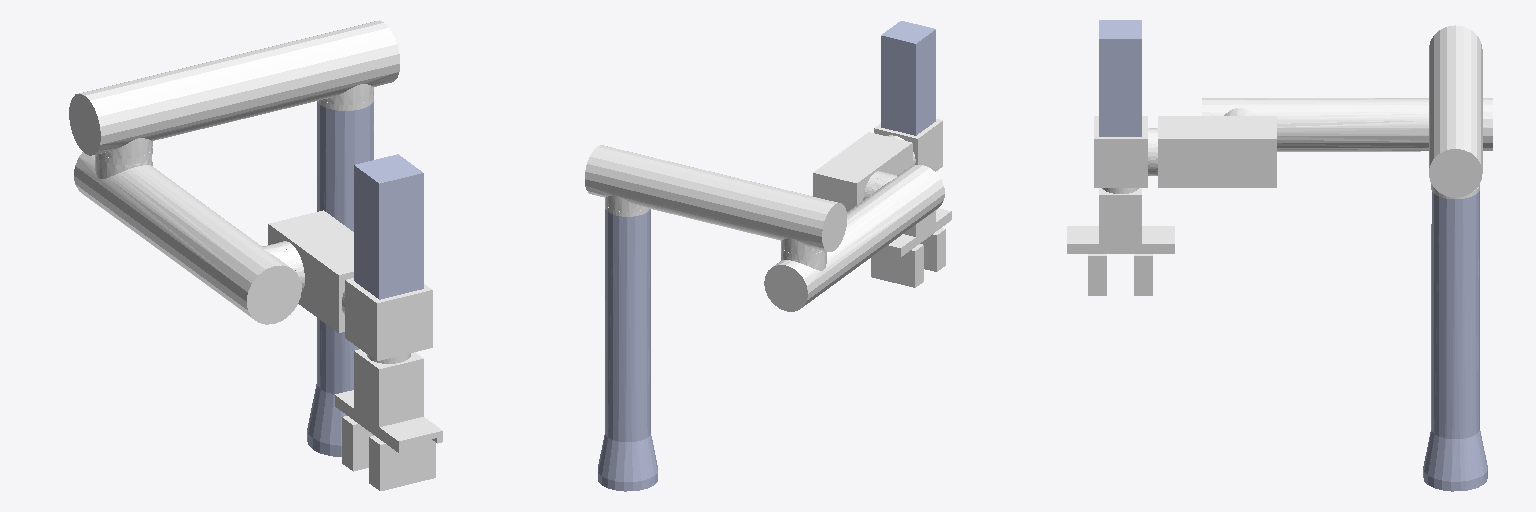
URDF robot description (robotic_arm_v7):
<?xml version='1.0' encoding='utf-8'?>
<robot name="robotic_arm_v7">
  <link name="base_link">
    <inertial>
      <origin xyz="-4.48530101948563E-14 3.06100197116207E-13 0.27640524781893" rpy="0 0 0" />
      <mass value="4.04087355067987" />
      <inertia ixx="0.129555582836237" ixy="4.88042983738183E-19" ixz="4.26073852666764E-17" iyy="0.129555582836237" iyz="3.97967754737461E-19" izz="0.00455706274910499" />
    </inertial>
    <visual>
      <origin xyz="0 0 0" rpy="0 0 0" />
      <geometry>
        <mesh filename="../meshes/base_link.STL" />
      </geometry>
      <material name="">
        <color rgba="0.792156862745098 0.819607843137255 0.933333333333333 1" />
      </material>
    </visual>
    <collision>
      <origin xyz="0 0 0" rpy="0 0 0" />
      <geometry>
        <mesh filename="../meshes/base_link.STL" />
      </geometry>
    </collision>
  </link>
  <link name="link1">
    <inertial>
      <origin xyz="0.197135744028777 -1.59976352138869E-07 0.0526642978178779" rpy="0 0 0" />
      <mass value="4.44204931472102" />
      <inertia ixx="0.00575245836192667" ixy="-3.47944138045796E-08" ixz="4.17589026739779E-08" iyy="0.111599507271791" iyz="-3.98795123152756E-08" izz="0.111432657655181" />
    </inertial>
    <visual>
      <origin xyz="0 0 0" rpy="0 0 0" />
      <geometry>
        <mesh filename="../meshes/link1.STL" />
      </geometry>
      <material name="">
        <color rgba="1 1 1 1" />
      </material>
    </visual>
    <collision>
      <origin xyz="0 0 0" rpy="0 0 0" />
      <geometry>
        <mesh filename="../meshes/link1.STL" />
      </geometry>
    </collision>
  </link>
  <joint name="joint1" type="revolute">
    <origin xyz="0 0 0.6" rpy="0 0 3.1416" />
    <parent link="base_link" />
    <child link="link1" />
    <axis xyz="0 0 -1" />
    <limit lower="-3.14" upper="3.14" effort="100" velocity="1" />
  </joint>
  <link name="link2">
    <inertial>
      <origin xyz="-0.000738403226501205 0.197135608816572 -0.0634025943131798" rpy="0 0 0" />
      <mass value="4.44204829421817" />
      <inertia ixx="0.11150262053642" ixy="0.000655954951601333" ixz="-2.42341507679182E-06" iyy="0.00575736828945308" iyz="0.000655967250818409" izz="0.11153441802896" />
    </inertial>
    <visual>
      <origin xyz="0 0 0" rpy="0 0 0" />
      <geometry>
        <mesh filename="../meshes/link2.STL" />
      </geometry>
      <material name="">
        <color rgba="1 1 1 1" />
      </material>
    </visual>
    <collision>
      <origin xyz="0 0 0" rpy="0 0 0" />
      <geometry>
        <mesh filename="../meshes/link2.STL" />
      </geometry>
    </collision>
  </link>
  <joint name="joint2" type="revolute">
    <origin xyz="0.4 0 0" rpy="0 0 0" />
    <parent link="link1" />
    <child link="link2" />
    <axis xyz="0 0 -1" />
    <limit lower="-3.14" upper="3.14" effort="100" velocity="1" />
  </joint>
  <link name="link3">
    <inertial>
      <origin xyz="0.0398974900501523 1.11022302462516E-16 -0.0626422711552406" rpy="0 0 0" />
      <mass value="2.32723450247039" />
      <inertia ixx="0.00383421920134784" ixy="-4.34466532626891E-18" ixz="6.84994264190495E-05" iyy="0.0113093046398436" iyz="-8.26342519335006E-20" izz="0.0112705770389137" />
    </inertial>
    <visual>
      <origin xyz="0 0 0" rpy="0 0 0" />
      <geometry>
        <mesh filename="../meshes/link3.STL" />
      </geometry>
      <material name="">
        <color rgba="1 1 1 1" />
      </material>
    </visual>
    <collision>
      <origin xyz="0 0 0" rpy="0 0 0" />
      <geometry>
        <mesh filename="../meshes/link3.STL" />
      </geometry>
    </collision>
  </link>
  <joint name="joint3" type="revolute">
    <origin xyz="-0.055 0.4 -0.065" rpy="1.5708 0 1.5708" />
    <parent link="link2" />
    <child link="link3" />
    <axis xyz="0 0 -1" />
    <limit lower="-3.14" upper="3.14" effort="100" velocity="1" />
  </joint>
  <link name="link4">
    <inertial>
      <origin xyz="-3.44169137633799E-15 -1.73683289972359E-12 0.0479519627717391" rpy="0 0 0" />
      <mass value="0.455425876852791" />
      <inertia ixx="0.00111346067238529" ixy="-9.66310568245252E-20" ixz="1.29671787928896E-19" iyy="0.000921460672385288" iyz="6.17813916663565E-20" izz="0.000888618700313452" />
    </inertial>
    <visual>
      <origin xyz="0 0 0" rpy="0 0 0" />
      <geometry>
        <mesh filename="../meshes/link4.STL" />
      </geometry>
      <material name="">
        <color rgba="1 1 1 1" />
      </material>
    </visual>
    <collision>
      <origin xyz="0 0 0" rpy="0 0 0" />
      <geometry>
        <mesh filename="../meshes/link4.STL" />
      </geometry>
    </collision>
  </link>
  <joint name="joint4" type="revolute">
    <origin xyz="0.16 0 -0.065" rpy="1.5708 0 1.5708" />
    <parent link="link3" />
    <child link="link4" />
    <axis xyz="0 0 1" />
    <limit lower="-3.14" upper="3.14" effort="100" velocity="1" />
  </joint>
  <link name="link5">
    <inertial>
      <origin xyz="0.049999999998263 -0.0399999999999991 0.0484868090201611" rpy="0 0 0" />
      <mass value="1.93924225500324" />
      <inertia ixx="0.0158729953475229" ixy="4.17898904342058E-19" ixz="5.782022544525E-18" iyy="0.0158729953475229" iyz="8.93482452136473E-18" izz="0.00205978588118948" />
    </inertial>
    <visual>
      <origin xyz="0 0 0" rpy="0 0 0" />
      <geometry>
        <mesh filename="../meshes/link5.STL" />
      </geometry>
      <material name="">
        <color rgba="0.796078431372549 0.823529411764706 0.937254901960784 1" />
      </material>
    </visual>
    <collision>
      <origin xyz="0 0 0" rpy="0 0 0" />
      <geometry>
        <mesh filename="../meshes/link5.STL" />
      </geometry>
    </collision>
  </link>
  <joint name="joint5" type="prismatic">
    <origin xyz="0.05 -0.05 0.1" rpy="1.5708 0 1.5708" />
    <parent link="link4" />
    <child link="link5" />
    <axis xyz="0 0 -1" />
    <limit lower="0" upper="0.2" effort="100" velocity="1" />
  </joint>
  <link name="link6">
    <inertial>
      <origin xyz="1.11022302462516E-16 1.73705494432852E-12 0.0690013034331856" rpy="0 0 0" />
      <mass value="0.897726765009713" />
      <inertia ixx="0.00160944496511564" ixy="1.10650989936171E-19" ixz="1.36545855683083E-18" iyy="0.00214144496511564" iyz="-2.12380256081643E-19" izz="0.00151935764356845" />
    </inertial>
    <visual>
      <origin xyz="0 0 0" rpy="0 0 0" />
      <geometry>
        <mesh filename="../meshes/link6.STL" />
      </geometry>
      <material name="">
        <color rgba="1 1 1 1" />
      </material>
    </visual>
    <collision>
      <origin xyz="0 0 0" rpy="0 0 0" />
      <geometry>
        <mesh filename="../meshes/link6.STL" />
      </geometry>
    </collision>
  </link>
  <joint name="joint6" type="revolute">
    <origin xyz="0.05 -0.04 -0.11" rpy="-3.1416 0 -1.5708" />
    <parent link="link5" />
    <child link="link6" />
    <axis xyz="0 0 1" />
    <limit lower="-3.14" upper="3.14" effort="100" velocity="1" />
  </joint>
  <link name="fin1">
    <inertial>
      <origin xyz="0.0399999999982632 -0.0468604651162824 0.0575000000000413" rpy="0 0 0" />
      <mass value="0.301000000000001" />
      <inertia ixx="0.000219793556201551" ixy="2.35600275213533E-20" ixz="-1.17445112398732E-19" iyy="0.000270360416666668" iyz="2.69963711322208E-20" izz="0.000428699806201552" />
    </inertial>
    <visual>
      <origin xyz="0 0 0" rpy="0 0 0" />
      <geometry>
        <mesh filename="../meshes/fin1.STL" />
      </geometry>
      <material name="">
        <color rgba="1 1 1 1" />
      </material>
    </visual>
    <collision>
      <origin xyz="0 0 0" rpy="0 0 0" />
      <geometry>
        <mesh filename="../meshes/fin1.STL" />
      </geometry>
    </collision>
  </link>
  <joint name="joint71" type="prismatic">
    <origin xyz="-0.1 0.04 0.12" rpy="-1.5708 0 -1.5708" />
    <parent link="link6" />
    <child link="fin1" />
    <axis xyz="0 0 1" />
    <limit lower="-0.05" upper="0.015" effort="100" velocity="1" />
  </joint>
  <link name="fin2">
    <inertial>
      <origin xyz="0.039999999998263 -0.0468604651162824 0.142499999999997" rpy="0 0 0" />
      <mass value="0.301" />
      <inertia ixx="0.000219793556201551" ixy="-1.31819117681282E-19" ixz="-1.84207874379796E-19" iyy="0.000270360416666667" iyz="4.75982565266433E-20" izz="0.000428699806201551" />
    </inertial>
    <visual>
      <origin xyz="0 0 0" rpy="0 0 0" />
      <geometry>
        <mesh filename="../meshes/fin2.STL" />
      </geometry>
      <material name="">
        <color rgba="1 1 1 1" />
      </material>
    </visual>
    <collision>
      <origin xyz="0 0 0" rpy="0 0 0" />
      <geometry>
        <mesh filename="../meshes/fin2.STL" />
      </geometry>
    </collision>
  </link>
  <joint name="joint72" type="prismatic">
    <origin xyz="-0.1 0.04 0.12" rpy="-1.5708 0 -1.5708" />
    <parent link="link6" />
    <child link="fin2" />
    <axis xyz="0 0 1" />
    <limit lower="-0.015" upper="0.05" effort="100" velocity="1" />
    <mimic joint="joint71" multiplier="-1" offset="0" />
  </joint>
</robot>

--- Facts derived from the render (not from the file) ---
The picture shows the robot from 3 angles, left to right: view 1: azimuth 30°, elevation 25°; view 2: azimuth 150°, elevation 25°; view 3: azimuth 270°, elevation 25°; orthographic projection.
Robot: robotic_arm_v7 — 9 links, 8 joints (5 revolute, 3 prismatic); root link base_link; default pose: every joint at zero.
Visible links, largest first — view 1: link1, link2, base_link, link5, link6, link3, link4, fin1, fin2; view 2: link1, base_link, link2, link5, link3, fin2, link4, link6, fin1; view 3: base_link, link2, link1, link3, link5, link6, link4, fin1, fin2.
Boxes of the visible links, x1,y1,x2,y2 form: link1: (69,20,399,158); link2: (74,147,301,324); base_link: (307,102,373,456); link5: (354,154,423,299); link6: (335,349,442,452); link3: (268,210,353,332); link4: (343,278,432,360); fin1: (369,436,435,490); fin2: (342,416,374,471); link1: (585,145,846,254); base_link: (598,209,657,491); link2: (764,165,944,311); link5: (881,21,935,135); link3: (813,132,912,211); fin2: (871,244,923,287); link4: (874,119,942,171); link6: (883,208,951,257); fin1: (920,228,945,271); base_link: (1423,191,1487,491); link2: (1202,98,1492,151); link1: (1429,25,1482,198); link3: (1156,115,1276,187); link5: (1099,20,1141,136); link6: (1067,188,1174,253); link4: (1094,116,1155,187); fin1: (1088,254,1106,295); fin2: (1134,254,1152,295).
Bounding box of the posed robot: 0.54 × 0.79 × 0.785 m (x, y, z).
9 mesh visuals loaded from 9 distinct referenced files (9 binary STL).
